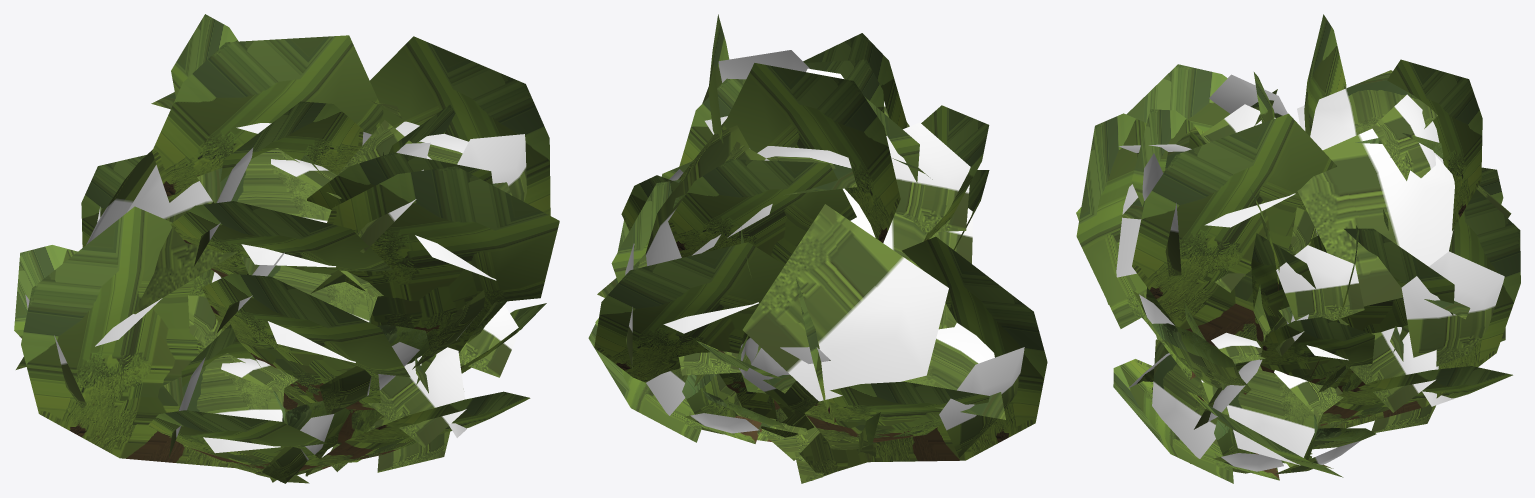
Rendered from Arbre_006_Feuillage.fbx.
3 renders of one model, left to right at view 1: azimuth 30°, elevation 25°; view 2: azimuth 150°, elevation 25°; view 3: azimuth 270°, elevation 25°, orthographic. The views are drawn at different scales.
Visible parts, largest first — view 1: Arbre_006_Feuillage; view 2: Arbre_006_Feuillage; view 3: Arbre_006_Feuillage.
Part boxes in pixels (box(x1,y1,x2,y2)): Arbre_006_Feuillage: box(14, 14, 559, 483); Arbre_006_Feuillage: box(588, 14, 1047, 483); Arbre_006_Feuillage: box(1076, 14, 1520, 483).
Size of the model in its own units: 5.58 by 4.88 by 4.61.
